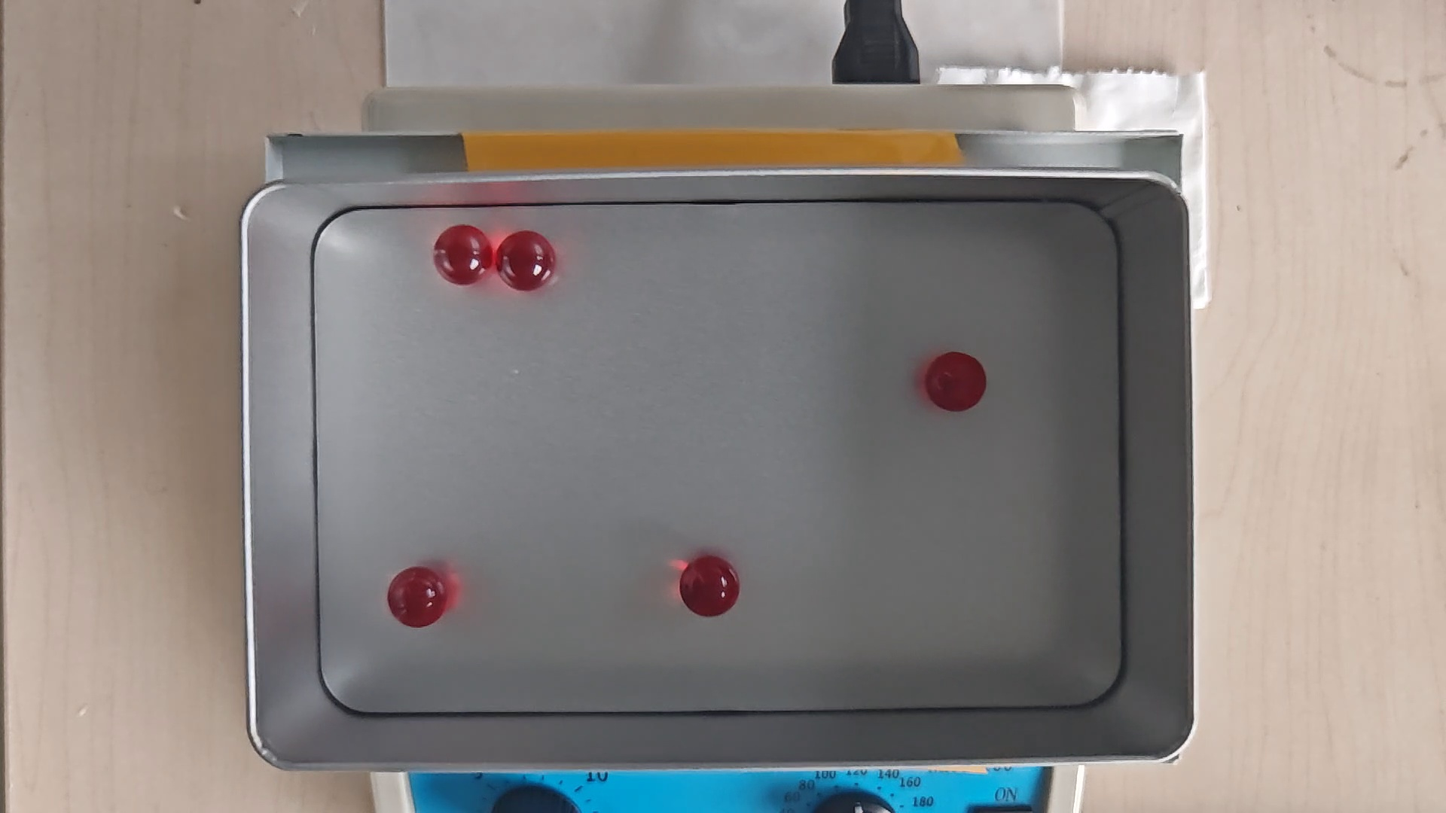ball: (923, 351, 987, 415), (678, 554, 742, 618), (386, 567, 449, 629), (433, 224, 493, 286), (496, 230, 556, 291)
container: (313, 202, 1124, 710)
